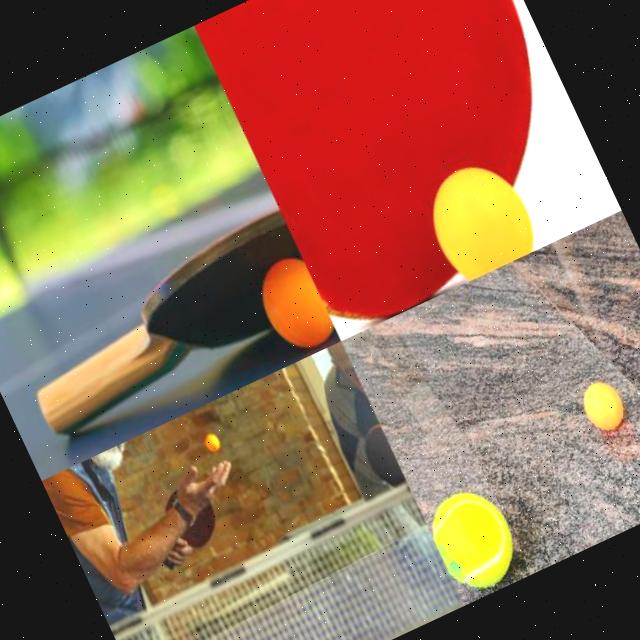ping-pong-ball: (416, 150, 544, 284), (250, 251, 338, 357), (576, 374, 632, 435), (205, 432, 223, 452)
